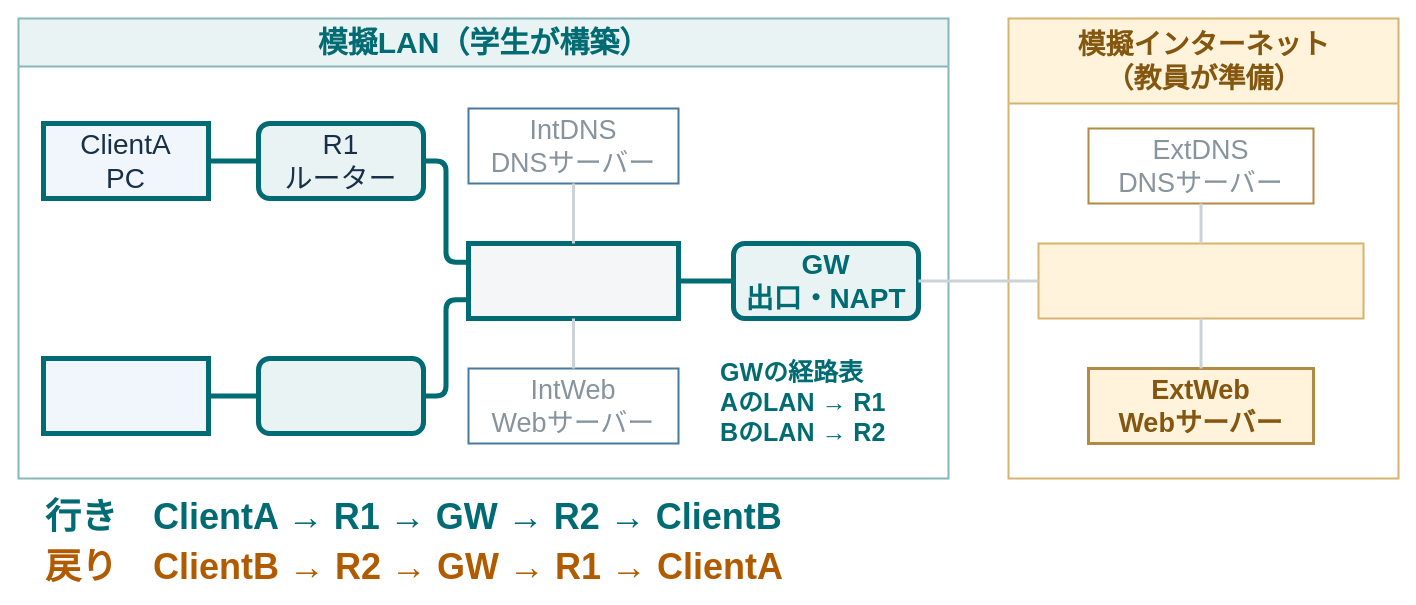
The diagram is 1416 pixels wide and 605 high, and some of its shapes have lost their labels. Here are the shapes that lost their labels. From the top down, the centre of each, then its label:
At (x=573, y=280): "スイッチ （中継）".
At (x=1200, y=280): "外部ネットワーク".
At (x=125, y=396): "ClientB PC".
At (x=341, y=396): "R2 ルーター".
